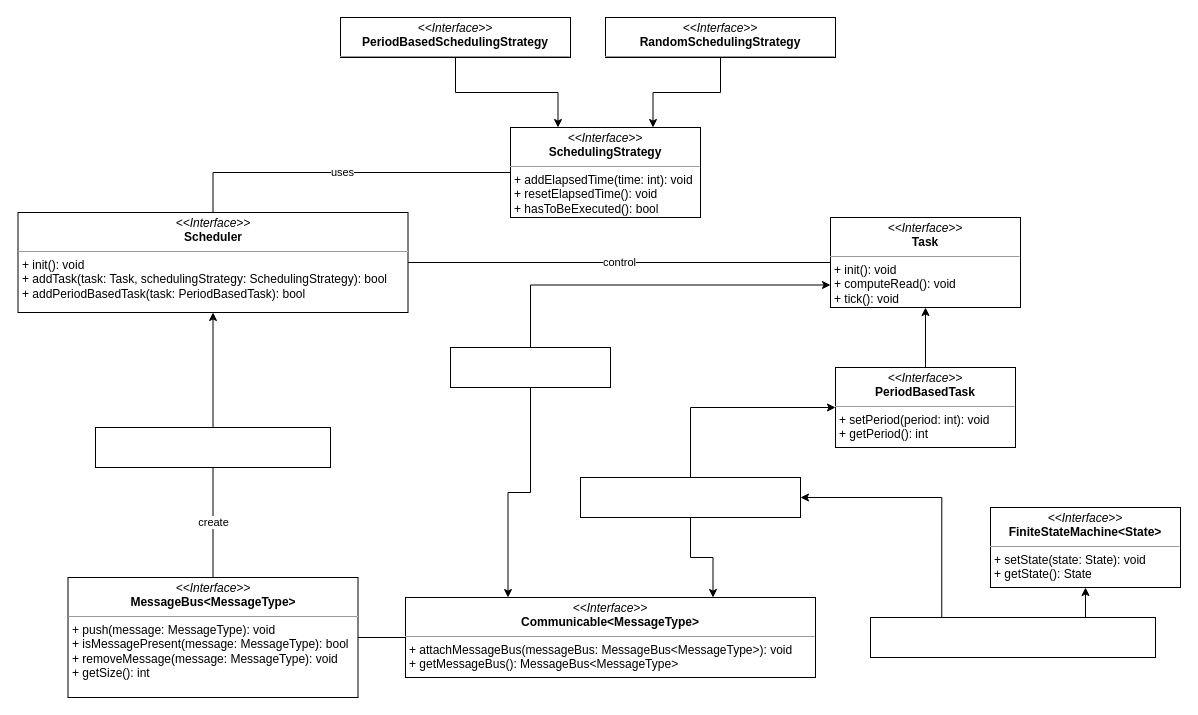
This 1198x715 diagram has some shape labels left out. The shapes that lost their labels are listed below. From the top down, each one's box as (x1, y1, x2, y2) in pixels, then its label:
(450, 346, 610, 388): <<Interface>> CommunicableTask
(94, 426, 330, 468): <<Interface>> SchedulerWithMessageBus +
(580, 476, 800, 518): <<Interface>> CommunicablePeriodBasedTask
(870, 616, 1156, 658): <<Interface>> CommunicablePeriodBasedTaskWithFSM
